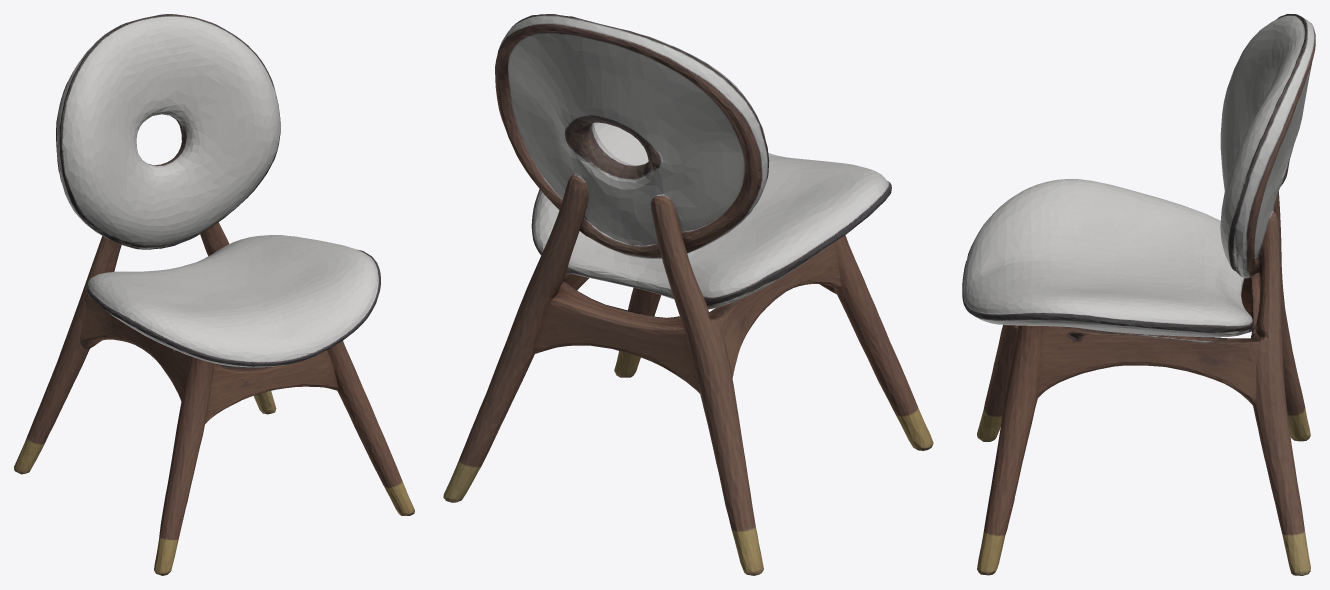
The picture shows the model from 3 angles, left to right: view 1: azimuth 30°, elevation 25°; view 2: azimuth 150°, elevation 25°; view 3: azimuth 270°, elevation 25°; orthographic projection. The views are drawn at different scales.
Visible parts, largest first — view 1: world; view 2: world; view 3: world.
Part boxes in pixels (x1,y1,x2,y2): world: (14,14,414,575); world: (443,14,933,575); world: (962,14,1315,575).
Bounding box in the file's own units: 0.6461 × 1 × 0.6777.
1 material, 1 textured.
